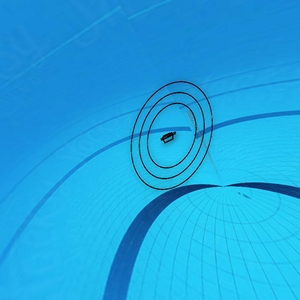circle: (131, 82, 220, 191)
submarine: (159, 131, 177, 144)
